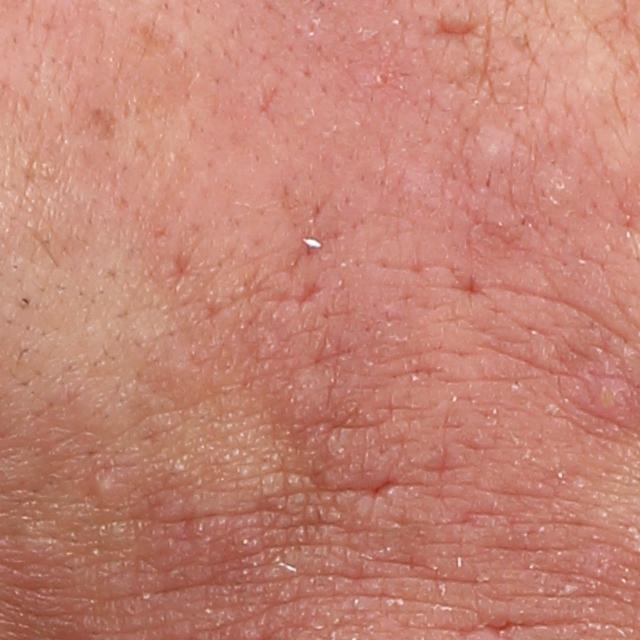atrophic_scar: (82, 102, 130, 150), (432, 13, 482, 44)
comedo: (89, 467, 118, 505)
